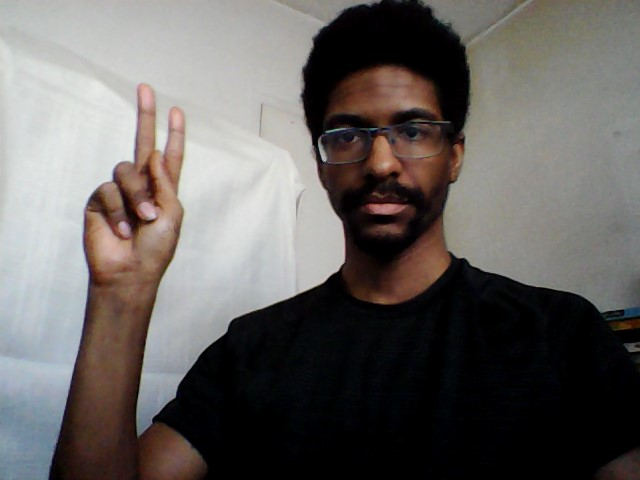k: (76, 76, 189, 301)
